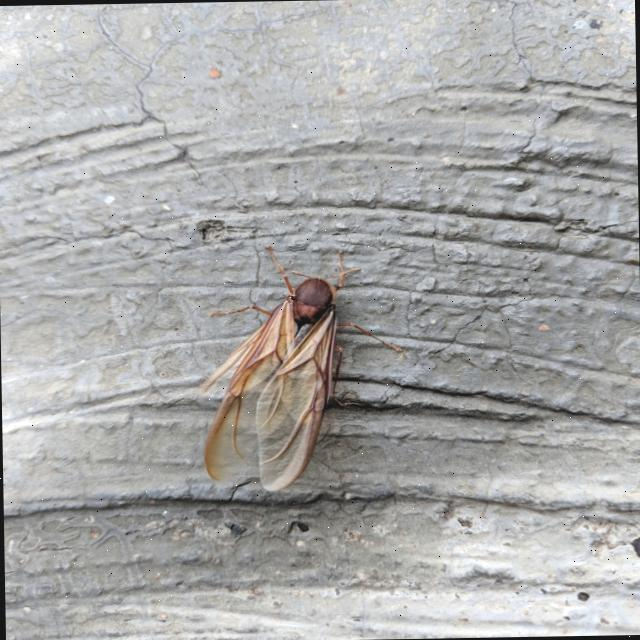Alive-Male-Alate: (193, 242, 406, 494)
